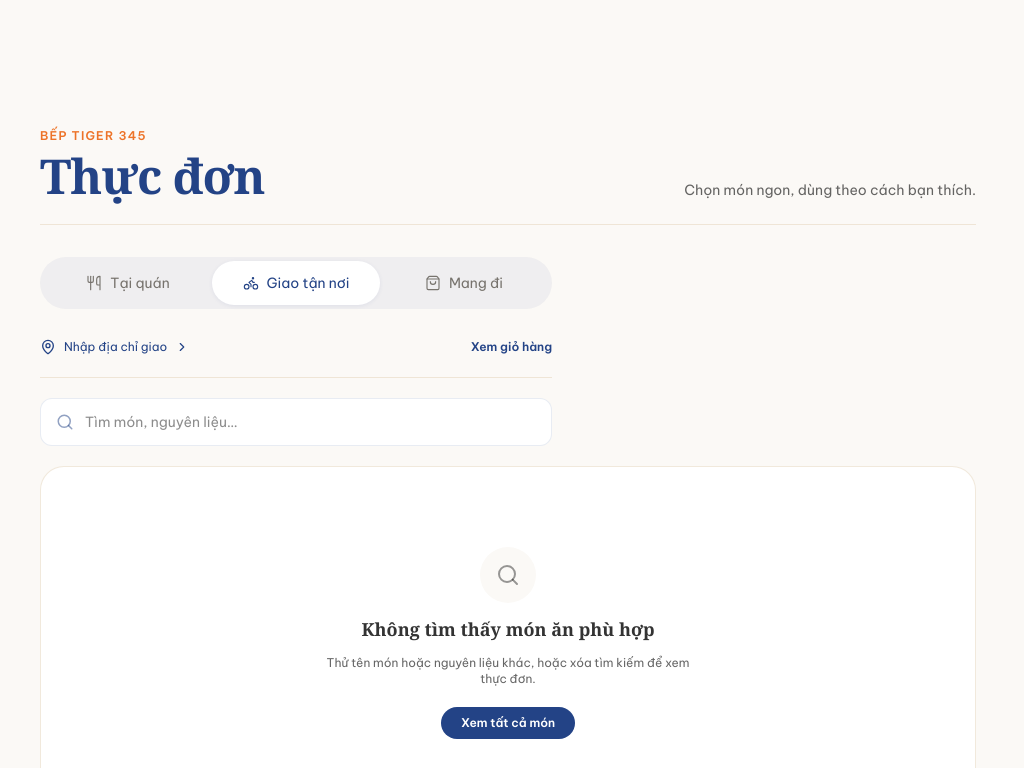
Test: MenuPage order-mode selector › chooses a delivery zone inside the form and saves the selected zone
This screenshot has width=1024, height=768.
Click the button "Nhập địa chỉ giao". click: (115, 347)
box: [40, 325, 189, 369]
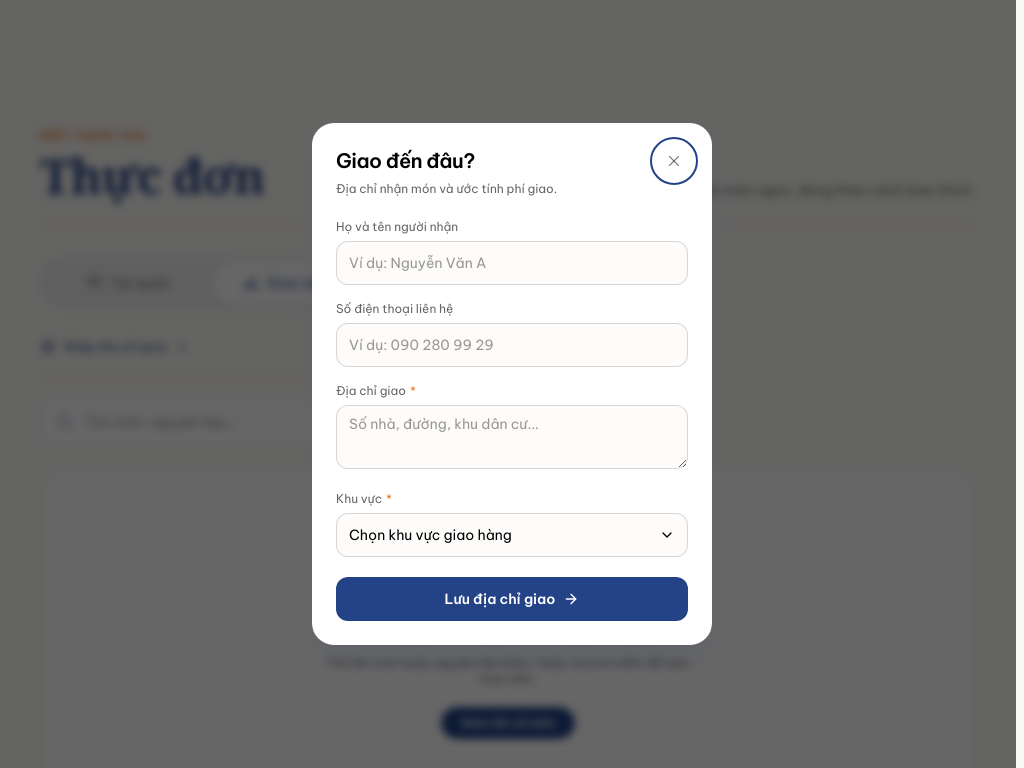
Type "Địa chỉ kiểm thử" into the text box labelled "Địa chỉ giao*". click: (512, 437)
box: [336, 405, 688, 469]
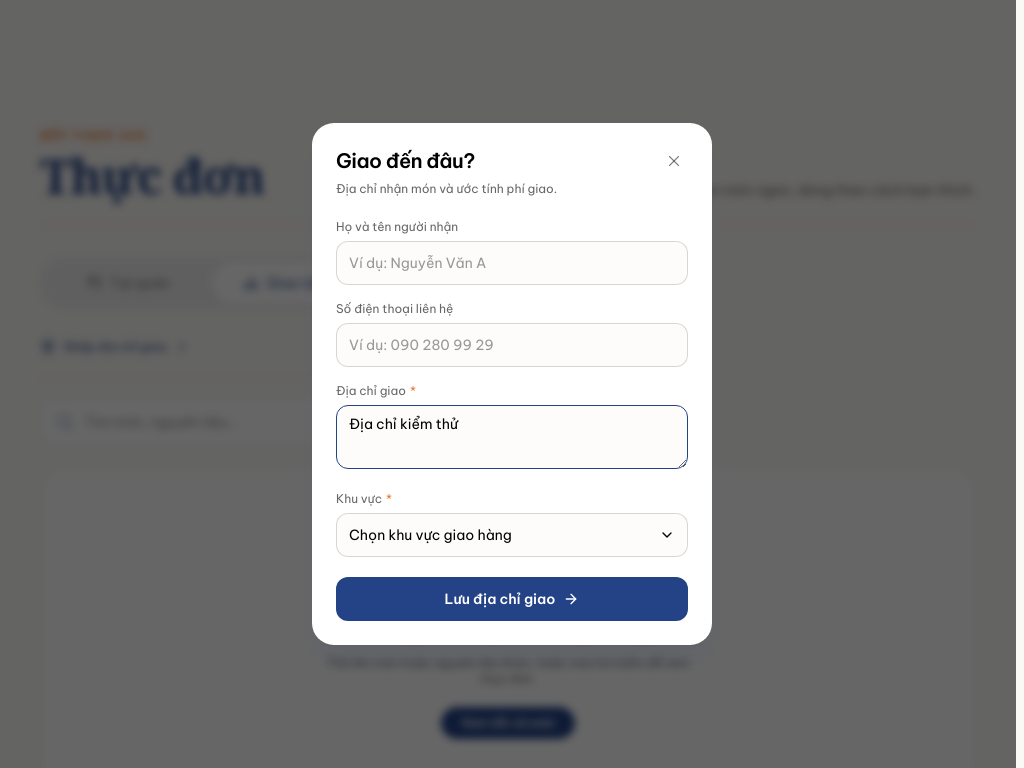
Click the heading "Chọn khu vực giao hàng". click: (512, 535)
box: [336, 513, 688, 557]
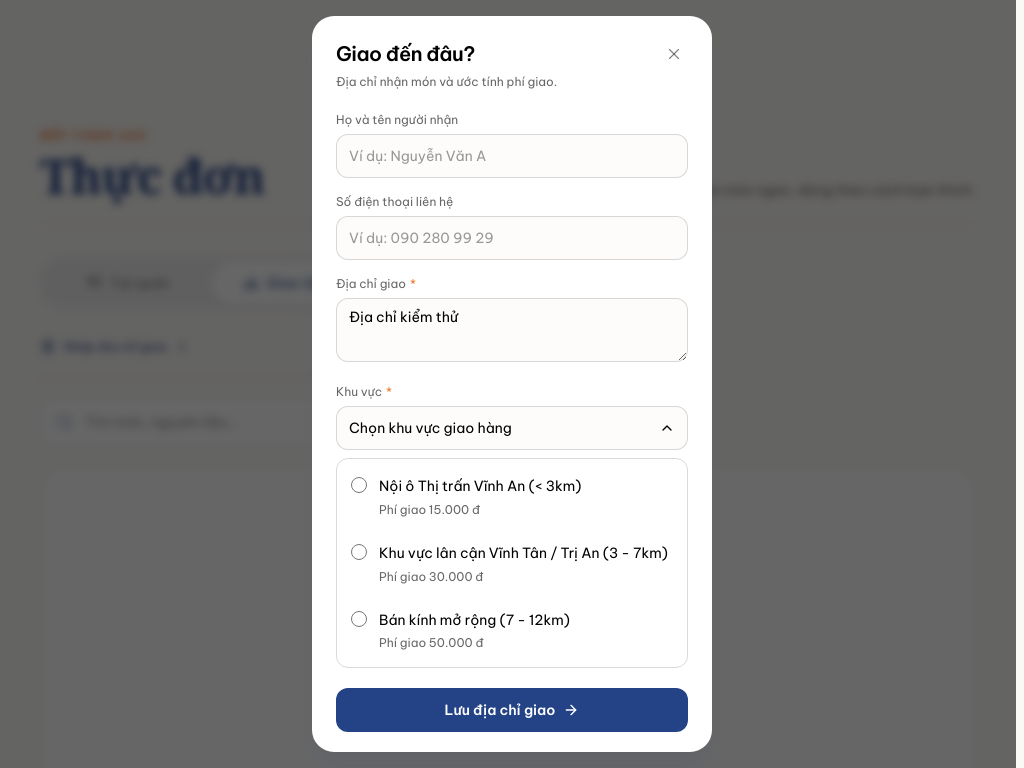
Click the radio button labelled "Khu vực lân cận Vĩnh Tân". click: (359, 552)
box: [351, 544, 367, 560]
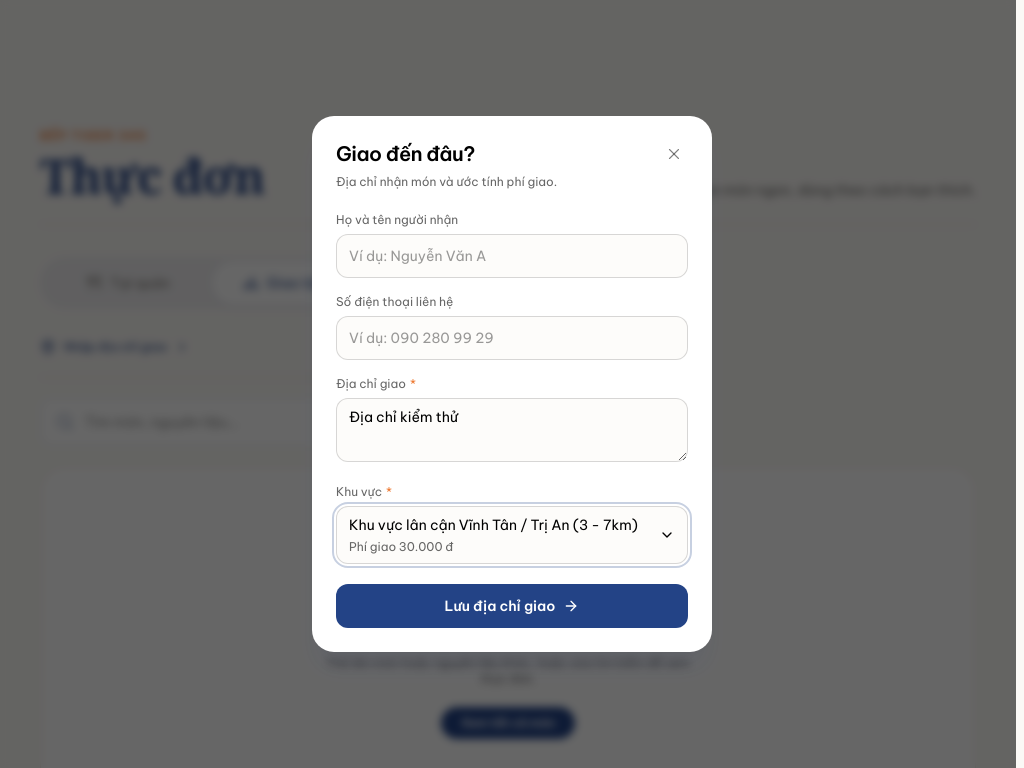
Result: the element "Khu vực lân cận Vĩnh Tân" does not have attribute open at [336, 506, 688, 564]
Click the button "Lưu địa chỉ giao". click: (512, 606)
box: [336, 584, 688, 628]
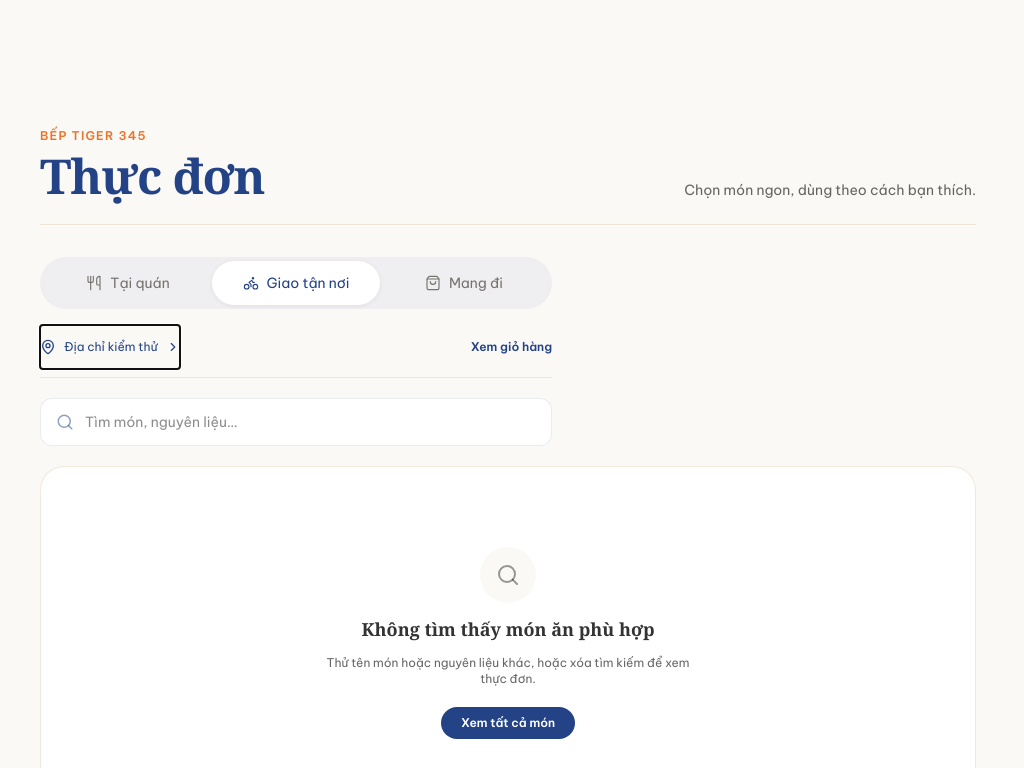
Result: the dialog is gone
